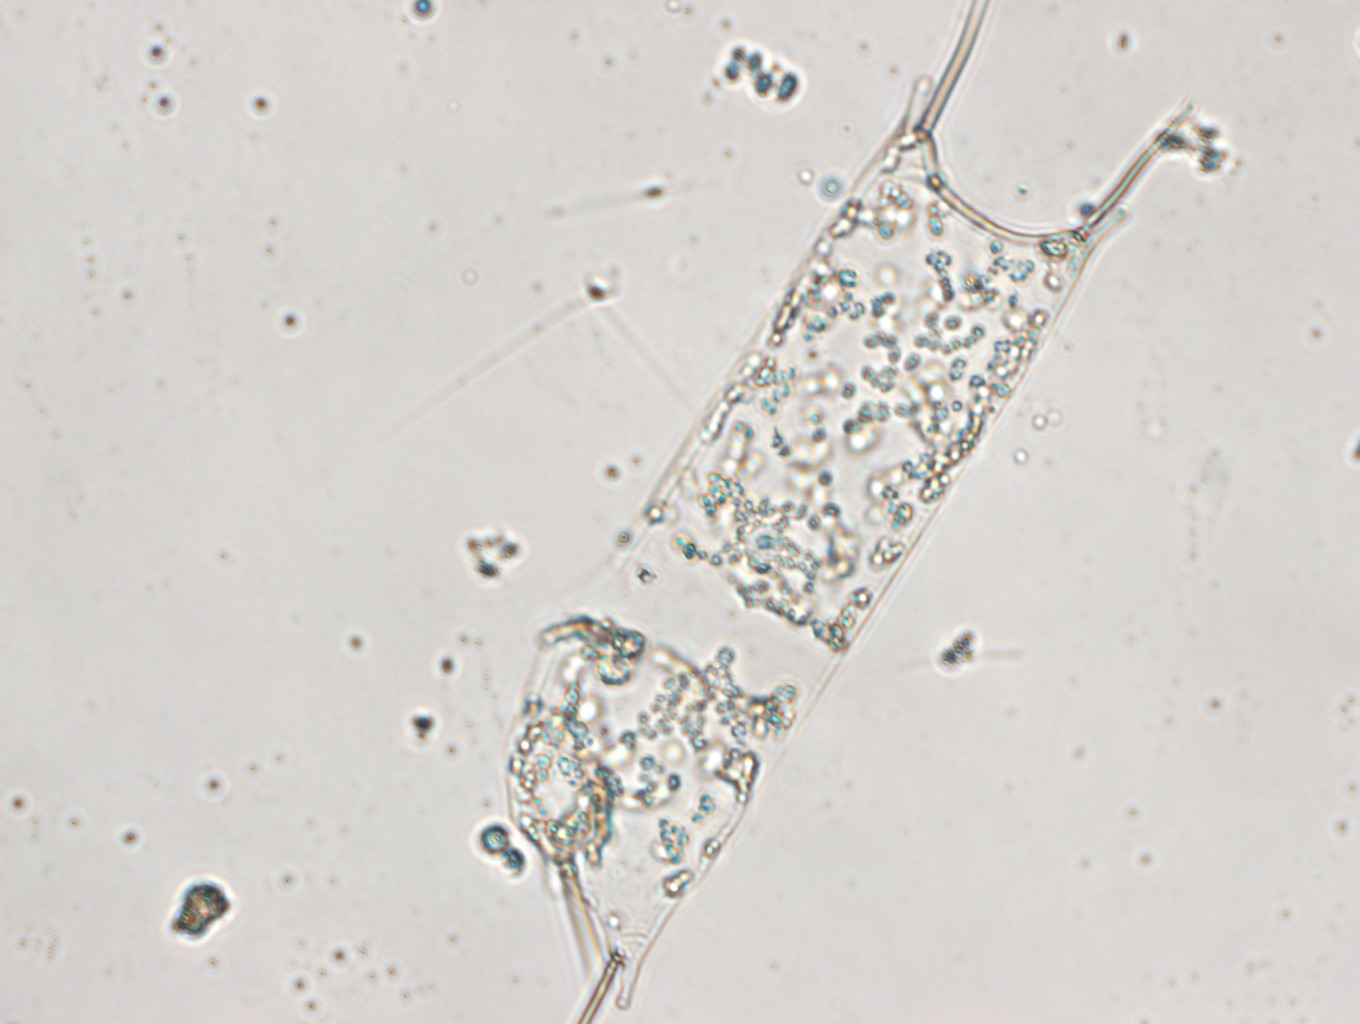biddulphia: (499, 1, 1177, 999)
